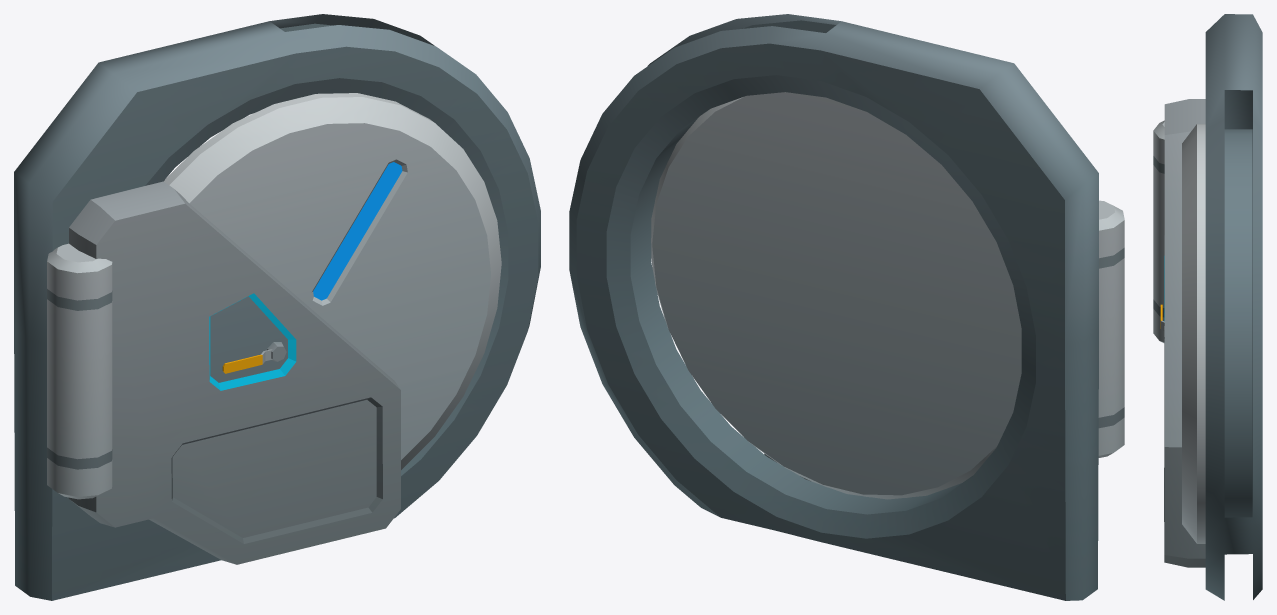
Rendered from doorway_frame_blocked_1x1.glb.
3 views of the same model, side by side, from view 1: azimuth 30°, elevation 25°; view 2: azimuth 150°, elevation 25°; view 3: azimuth 270°, elevation 25° (orthographic). The views are drawn at different scales.
Parts seen in each view (by area): view 1: Door_panel_012, Door_007; view 2: Door_007, Door_panel_012; view 3: Door_007, Door_panel_012.
Part boxes in pixels (x1=…): Door_panel_012: x1=68, y1=93, x2=501, y2=564; Door_007: x1=14, y1=14, x2=540, y2=600; Door_007: x1=569, y1=14, x2=1124, y2=600; Door_panel_012: x1=651, y1=92, x2=1021, y2=499; Door_007: x1=1153, y1=14, x2=1262, y2=600; Door_panel_012: x1=1160, y1=99, x2=1205, y2=567.
Size of the model in its own units: 3.22 by 3.02 by 0.6562.
Materials: 2 (2 with a texture image).
